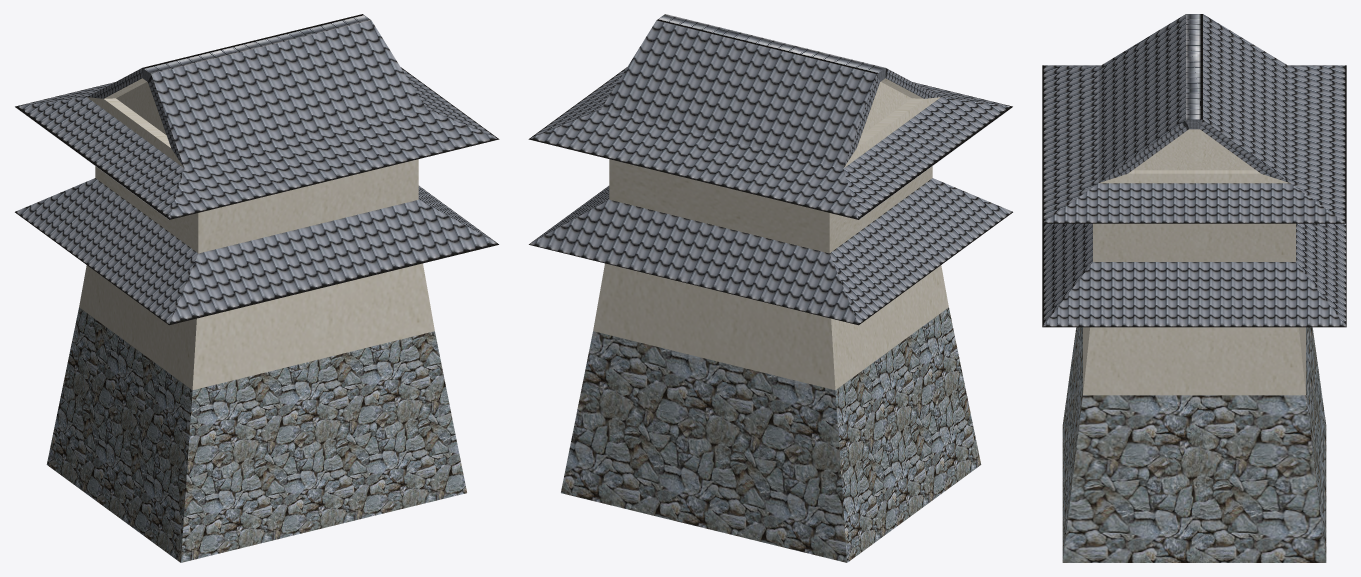
Rendered from hosiiyagura.fbx.
3 renders of one model, left to right at view 1: azimuth 30°, elevation 25°; view 2: azimuth 150°, elevation 25°; view 3: azimuth 270°, elevation 25°, orthographic.
Visible parts, largest first — view 1: 立方体; view 2: 立方体; view 3: 立方体.
Part boxes in pixels (left/top/right/bottom): 立方体: left=15, top=14, right=499, bottom=562; 立方体: left=528, top=14, right=1012, bottom=562; 立方体: left=1042, top=14, right=1346, bottom=562.
Size of the model in its own units: 52.55 by 66.08 by 42.62.
3 materials, 3 textured.
